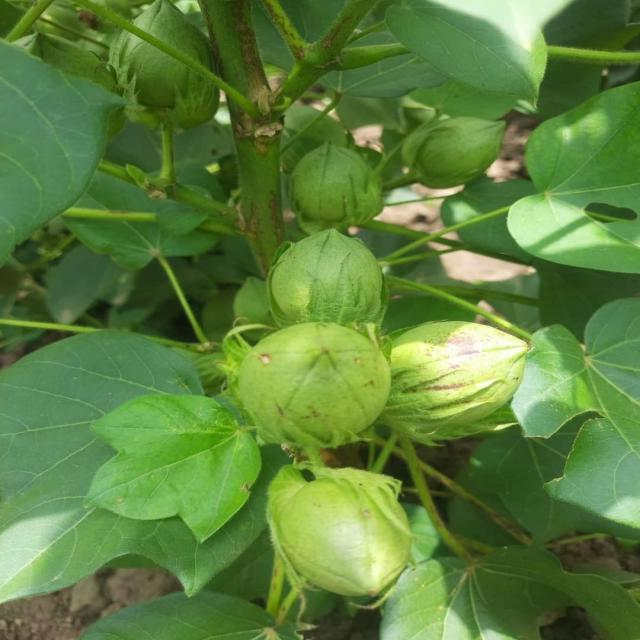Early Boll: (228, 316, 390, 450), (267, 464, 414, 598), (386, 318, 532, 436), (107, 5, 212, 125), (392, 109, 517, 197), (273, 227, 386, 320), (281, 140, 391, 228)
